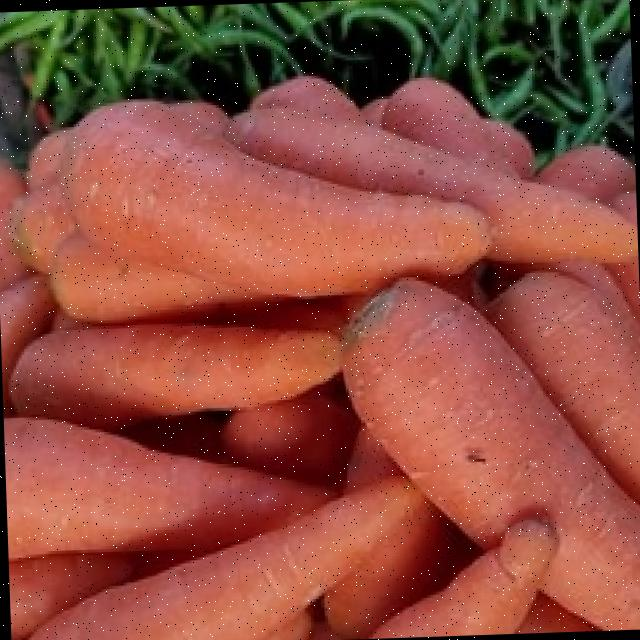carrot: (0, 76, 640, 640)
